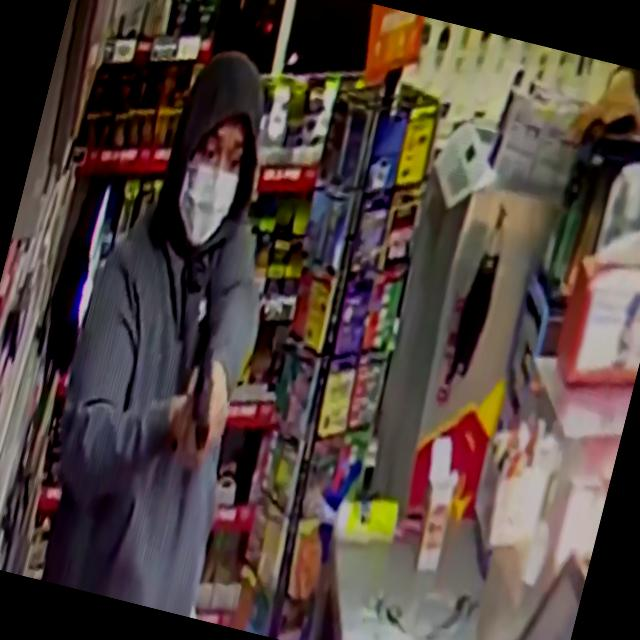handgun: (154, 336, 242, 486)
